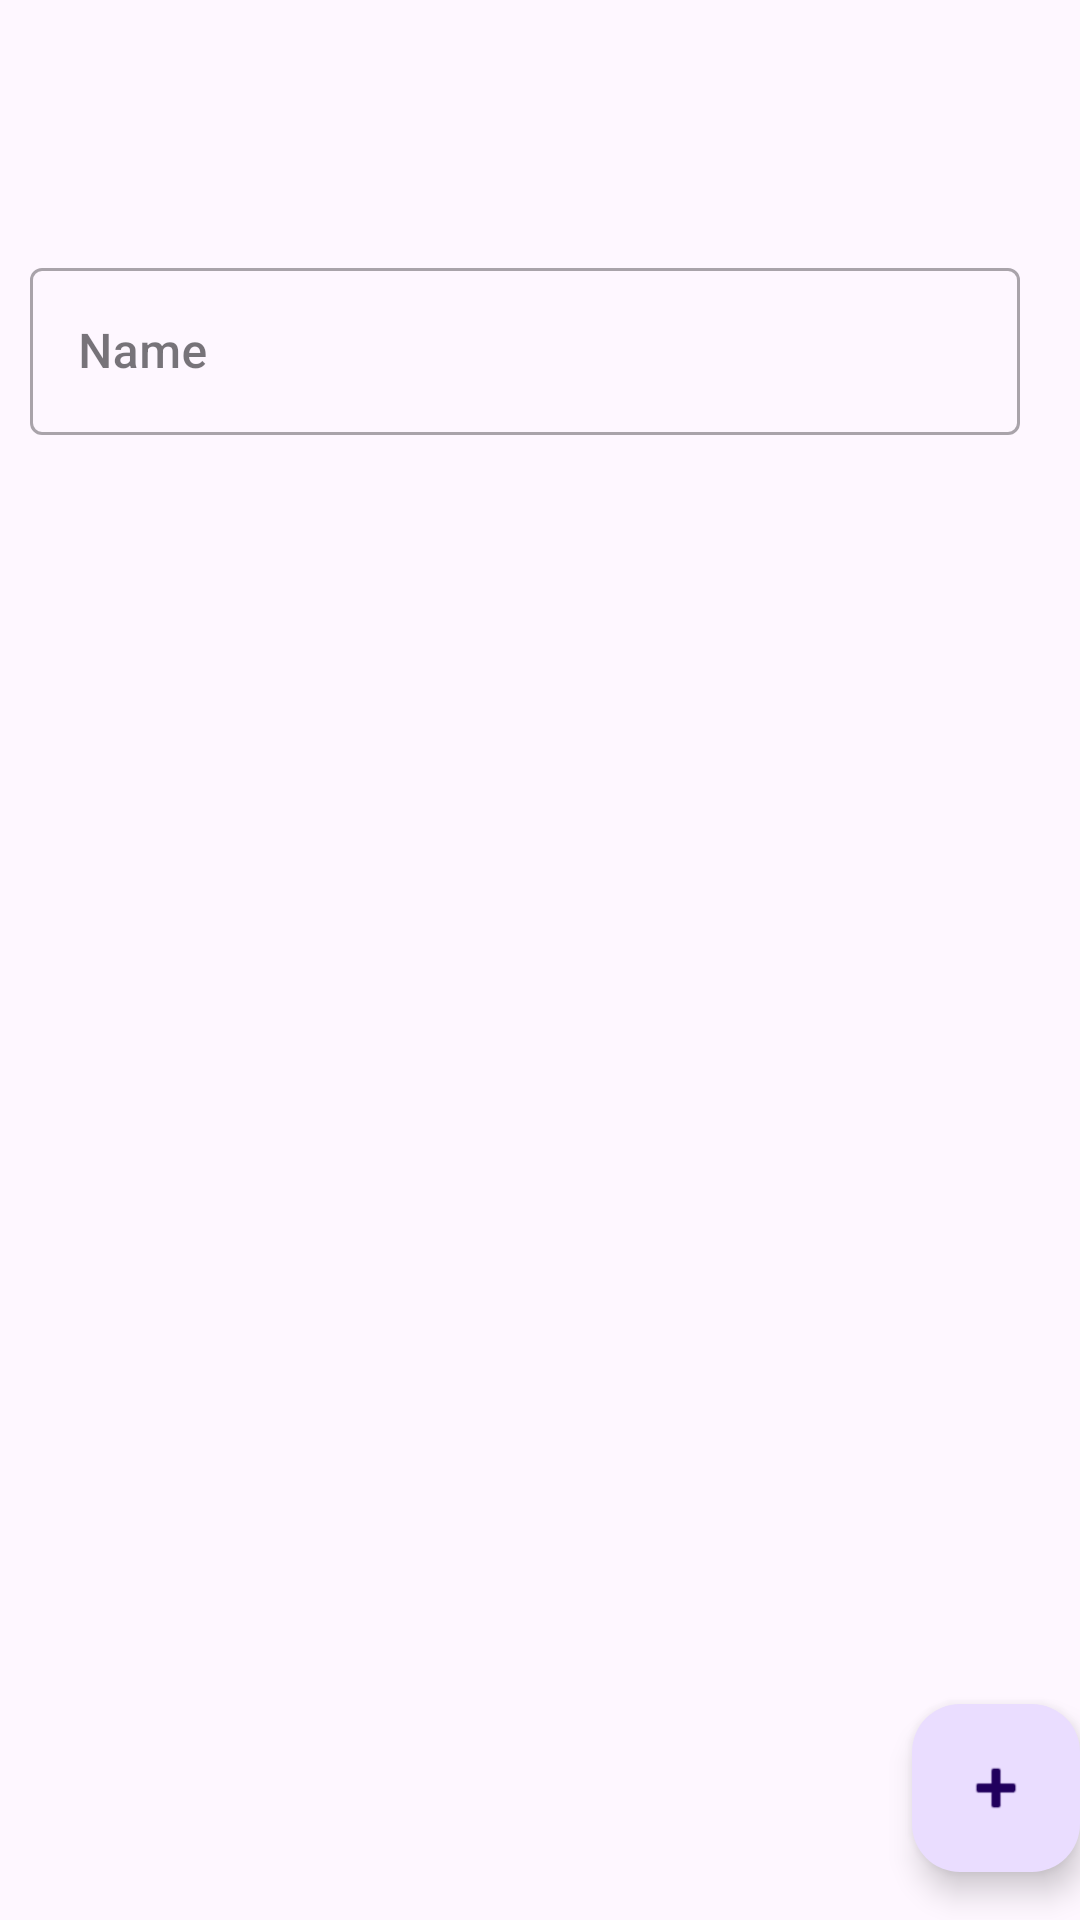

Icons on this 1080px×1920px Android screen, each with the point to tap as (x,y):
add: (996,1788)
